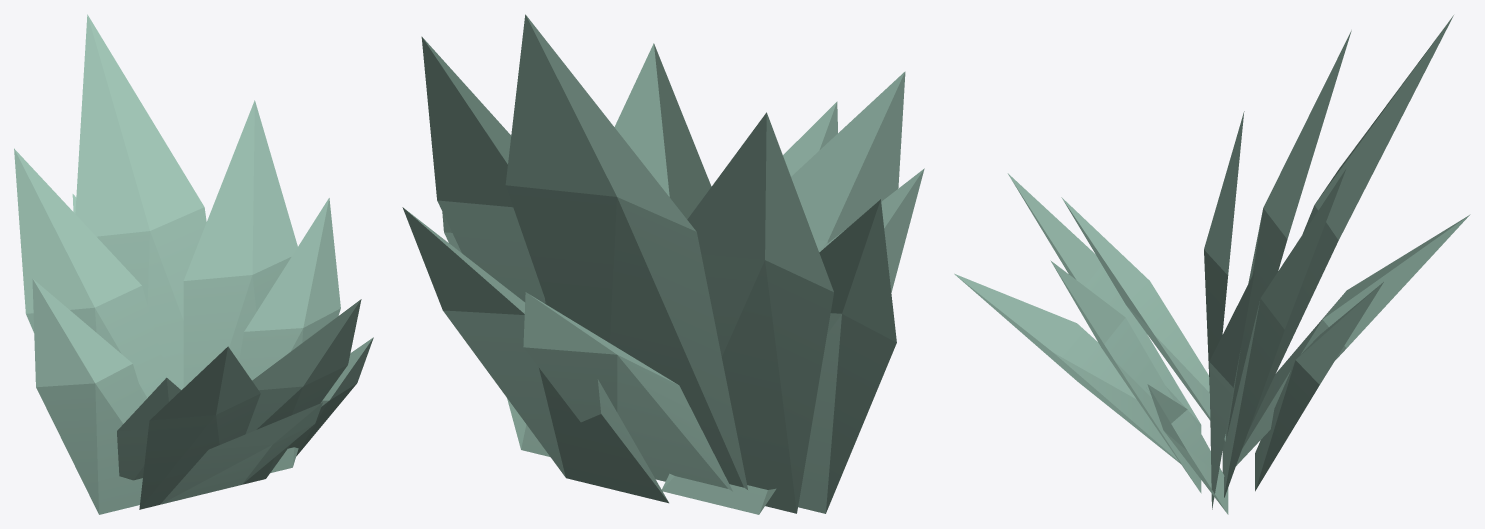
Rendered from grass.glb.
3 renders of one model, left to right at view 1: azimuth 30°, elevation 25°; view 2: azimuth 150°, elevation 25°; view 3: azimuth 270°, elevation 25°, orthographic. The views are drawn at different scales.
Parts seen in each view (by area): view 1: root_mesh; view 2: root_mesh; view 3: root_mesh.
Boxes of the visible parts, bbox=[...] form: root_mesh: bbox=[14, 14, 373, 514]; root_mesh: bbox=[402, 14, 924, 514]; root_mesh: bbox=[954, 15, 1470, 514].
Size of the model in its own units: 0.3063 by 0.3788 by 0.4.
